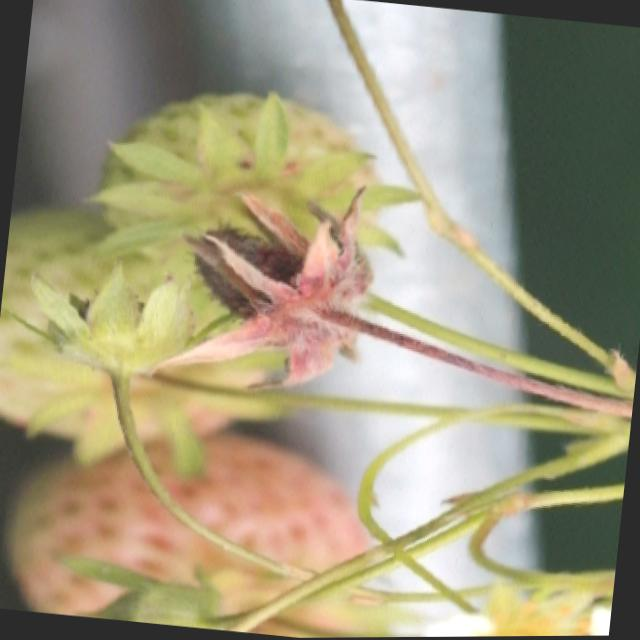Gray Mold: (153, 185, 410, 388)
